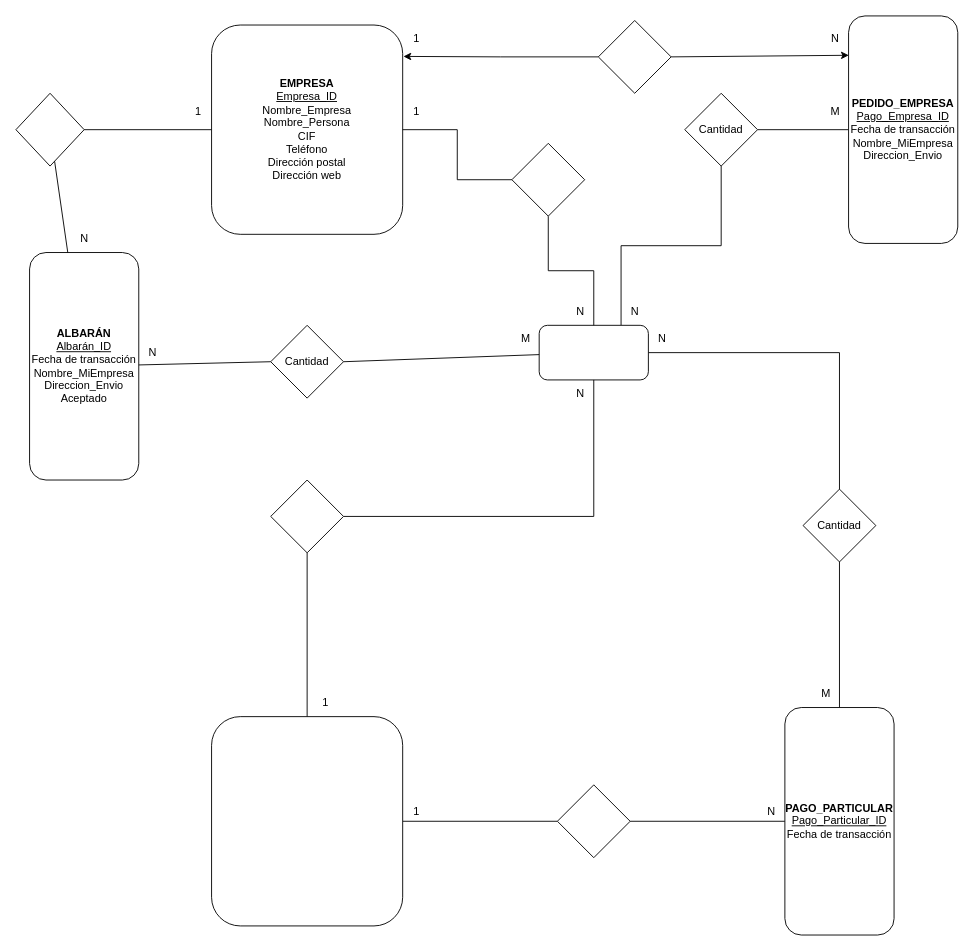
Some shapes in this 974 by 951 pixel diagram are drawn without their labels. The shapes that lost their labels are listed below. From the top down, each one's centre as x and y in pixels, then its label:
At [593,352]: "OBJETO Objeto_ID Objeto_Nombre Objeto_Precio".
At [307,821]: "PARTICULAR Particular_ID Nombre DNI Teléfono Dirección".
